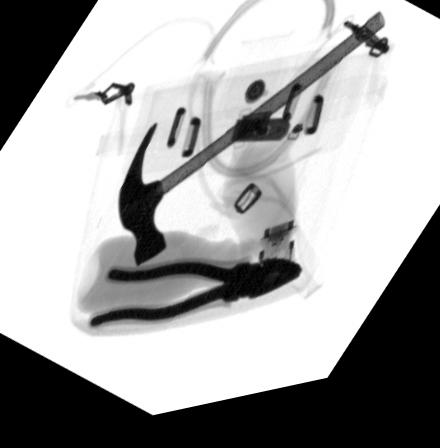Hammer: (114, 28, 383, 274)
Pliers: (85, 266, 302, 334)
